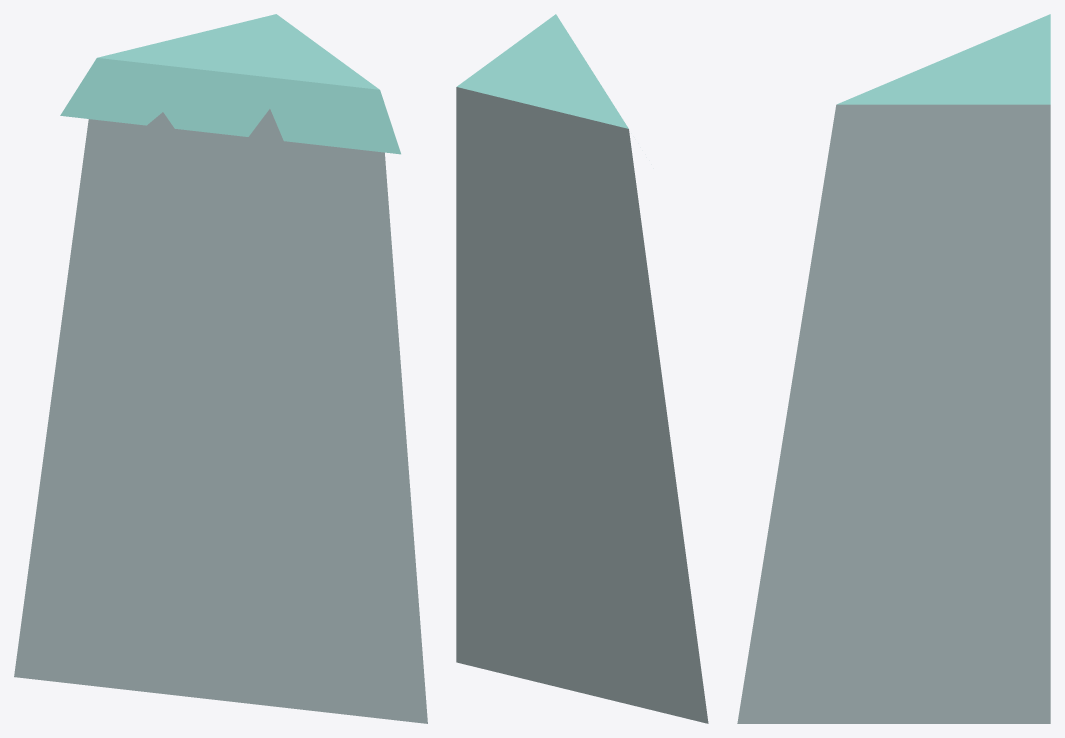
Rendered from cliffGrey_cornerTop.glb.
The picture shows the model from 3 angles, left to right: view 1: azimuth 30°, elevation 25°; view 2: azimuth 150°, elevation 25°; view 3: azimuth 270°, elevation 25°; orthographic projection. The views are drawn at different scales.
Visible parts, largest first — view 1: cliffGrey_cornerTop; view 2: cliffGrey_cornerTop; view 3: cliffGrey_cornerTop.
Part boxes in pixels (x1,y1,x2,y2): cliffGrey_cornerTop: (14, 14, 427, 723); cliffGrey_cornerTop: (456, 14, 708, 723); cliffGrey_cornerTop: (737, 14, 1050, 723).
Size of the model in its own units: 0.4584 by 1 by 0.4584.
